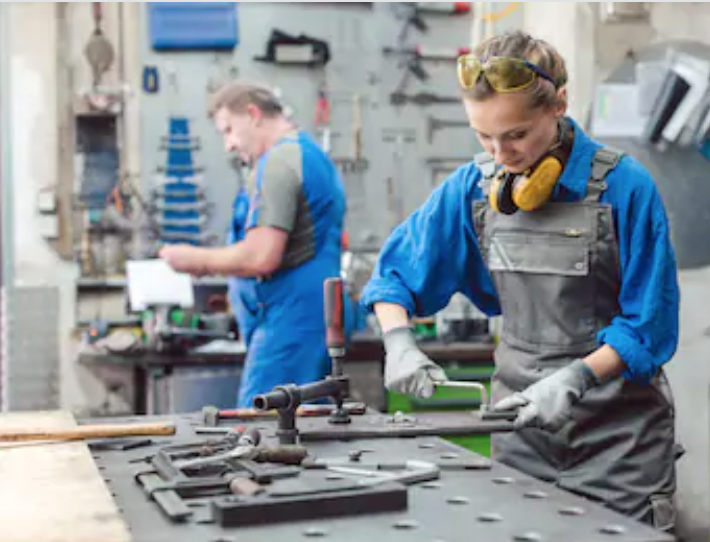Good: (154, 32, 679, 427)
